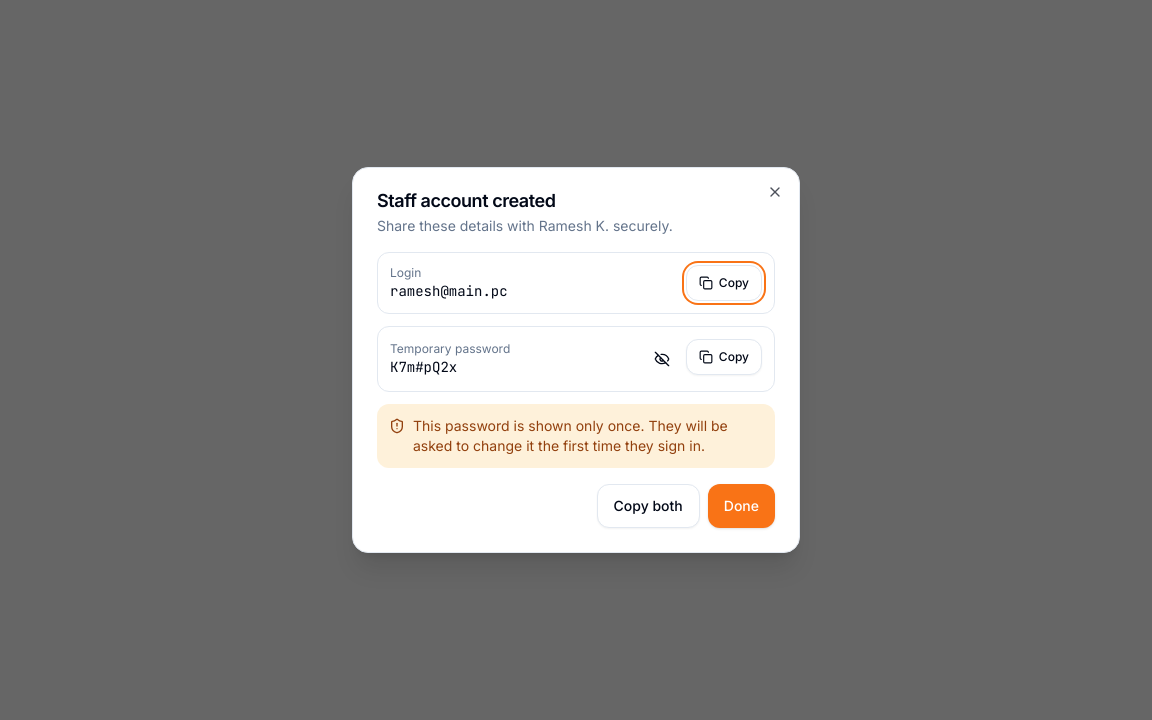
Test: CredentialRevealDialog › can hide and re-show the password
What coordinates should you click on to do the following:
click the button named "hide password"
I would click on:
 (662, 359)
Its box is [642,339,682,379].
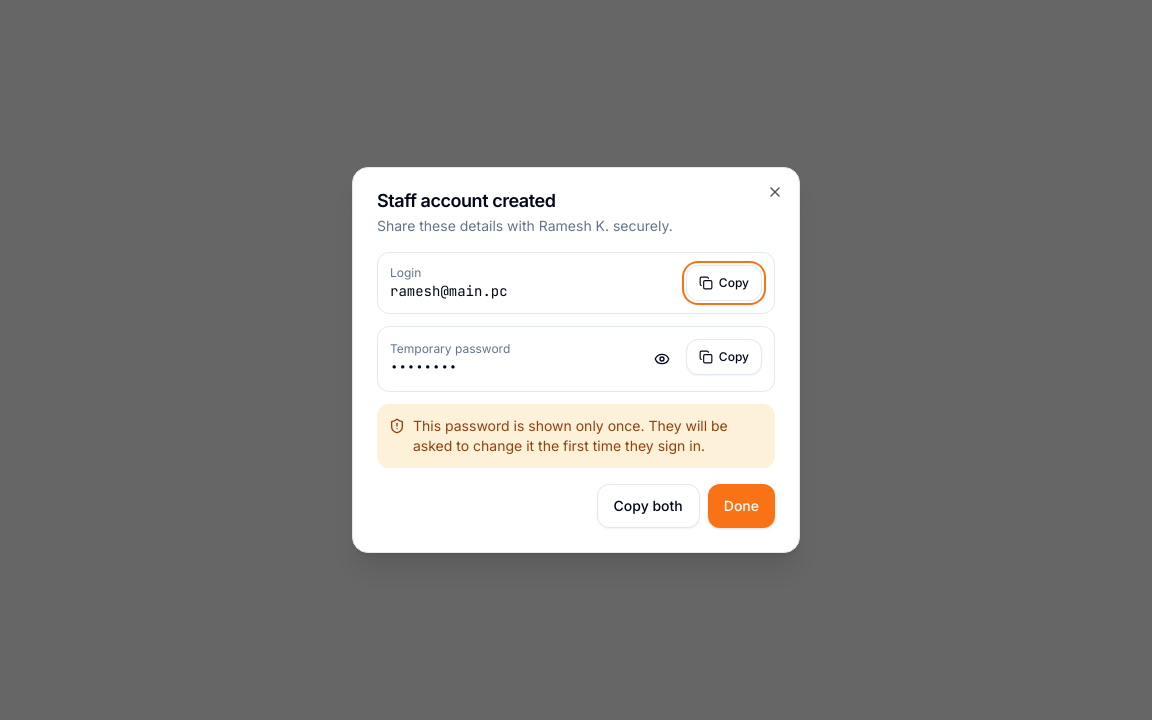
Now the text with test id "temp-password" no longer shows "K7m#pQ2x", box [390,358,457,376]
What coordinates should you click on to do the following:
click the button named "show password"
I would click on:
 (662, 359)
Its box is [642,339,682,379].
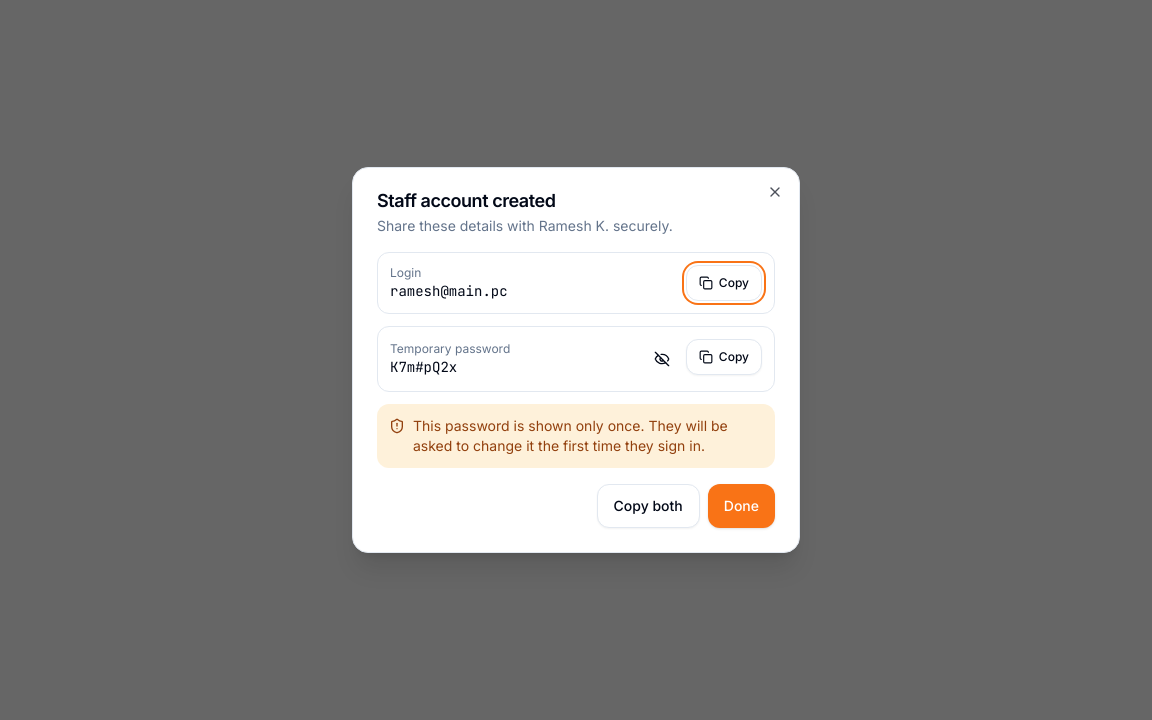
Now the text with test id "temp-password" reads "K7m#pQ2x", box [390,358,457,376]
